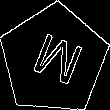M_S: (24, 28, 84, 91)
